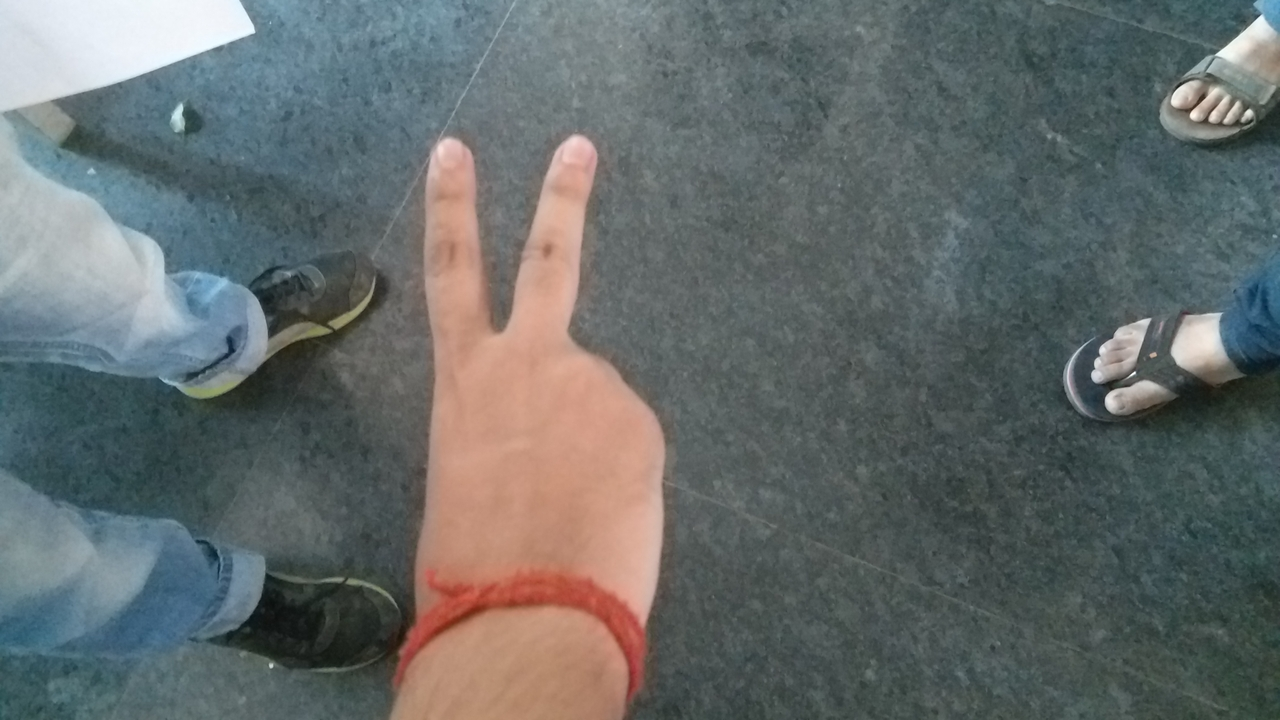fingertip: (538, 128, 606, 182), (416, 128, 480, 182)
